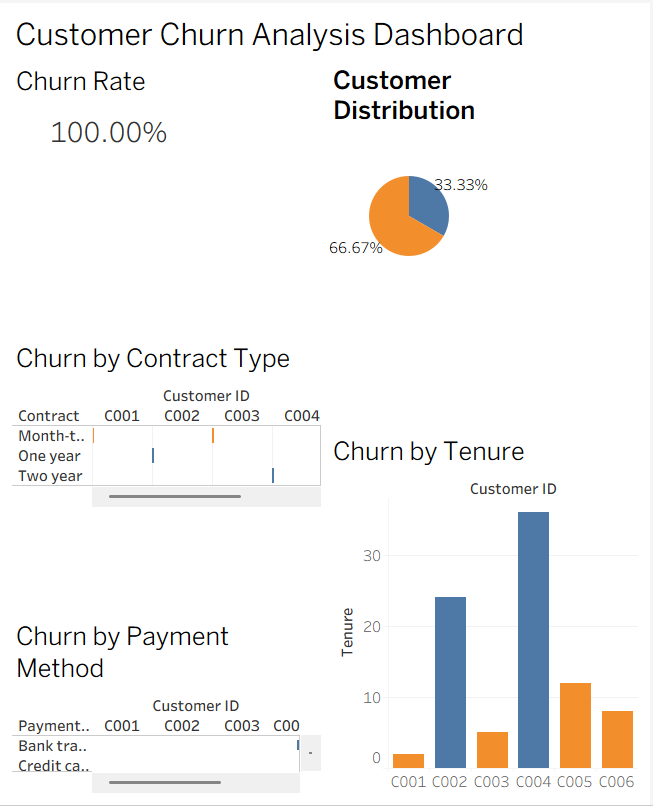

This screenshot's page, from the dashboard's own definition file:
{"tool":"tableau","page":{"name":"Dashboard 1","canvas":[650,860],"ordinal":0},"visuals":[{"type":"title","box":[8,8.7,634,49.9]},{"type":"worksheet","title":"Sheet 1","mark":"Text","box":[8,58.6,317,297.2]},{"type":"worksheet","title":"Sheet 2","mark":"Pie","box":[325,58.6,317,297.3]},{"type":"worksheet","title":"Sheet 3","mark":"Bar","rows":["Contract"],"cols":["CustomerID"],"box":[8,355.9,317,297.3]},{"type":"worksheet","title":"Sheet 4","mark":"Bar","rows":["Tenure"],"cols":["CustomerID"],"box":[325,355.9,317,495.4]},{"type":"worksheet","title":"Sheet 5","mark":"Automatic","rows":["PaymentMethod"],"cols":["CustomerID"],"box":[8,653.1,317,198.2]}]}

Visuals, with their boxes on the page's 650x860 design canvas (x1, y1, x2, y2). These are canvas units, not pixel positions in the 653x806 screenshot, which may show the page scaled, cropped or inside an application window:
title: Rect(8, 9, 642, 59)
"Sheet 1" worksheet (Text marks): Rect(8, 59, 325, 356)
"Sheet 2" worksheet (Pie marks): Rect(325, 59, 642, 356)
"Sheet 3" worksheet (Bar marks): Rect(8, 356, 325, 653)
"Sheet 4" worksheet (Bar marks): Rect(325, 356, 642, 851)
"Sheet 5" worksheet: Rect(8, 653, 325, 851)
